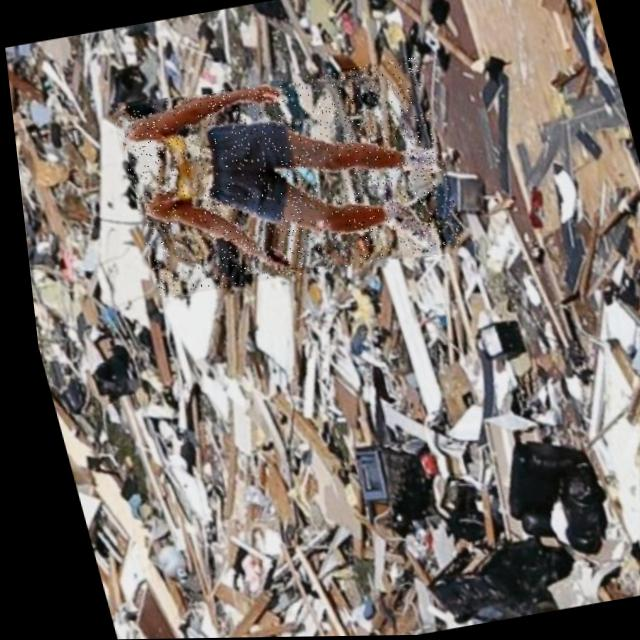Person in Rubble: (103, 56, 465, 299)
